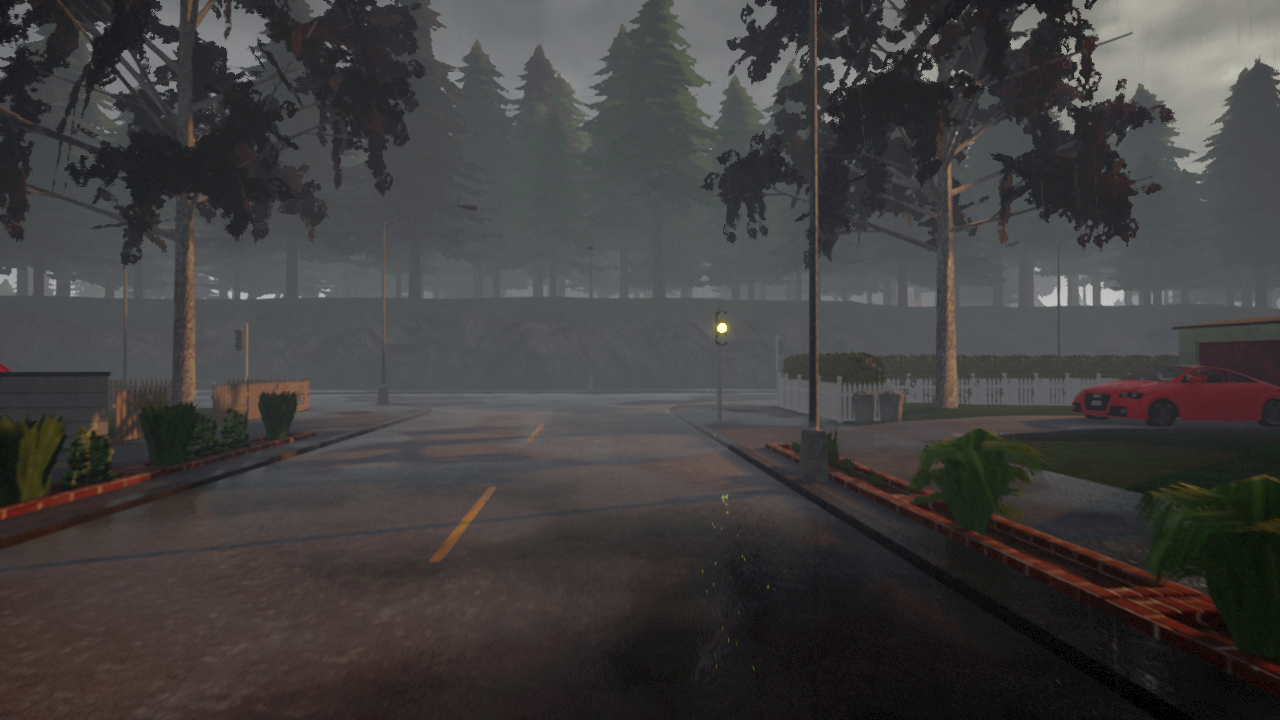yellow: (714, 310, 727, 346)
